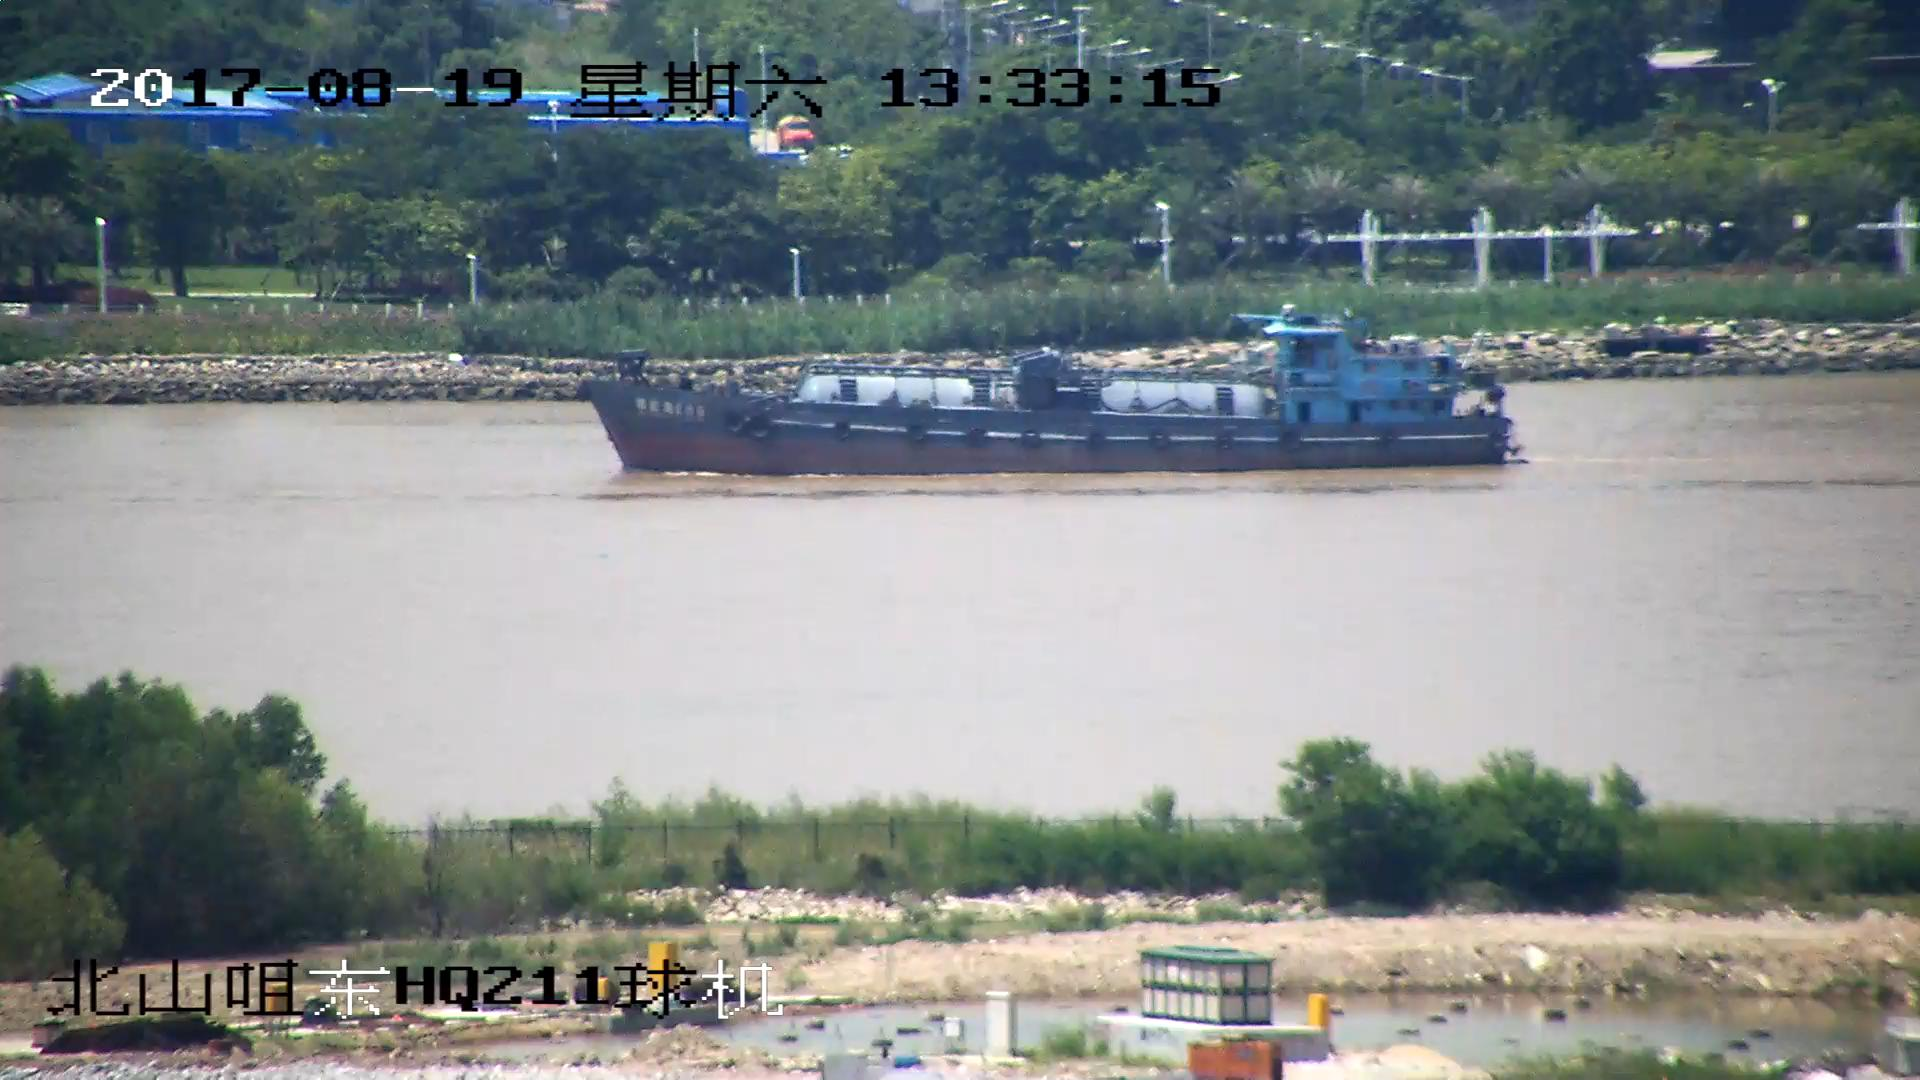bulk cargo carrier: (570, 314, 1514, 473)
